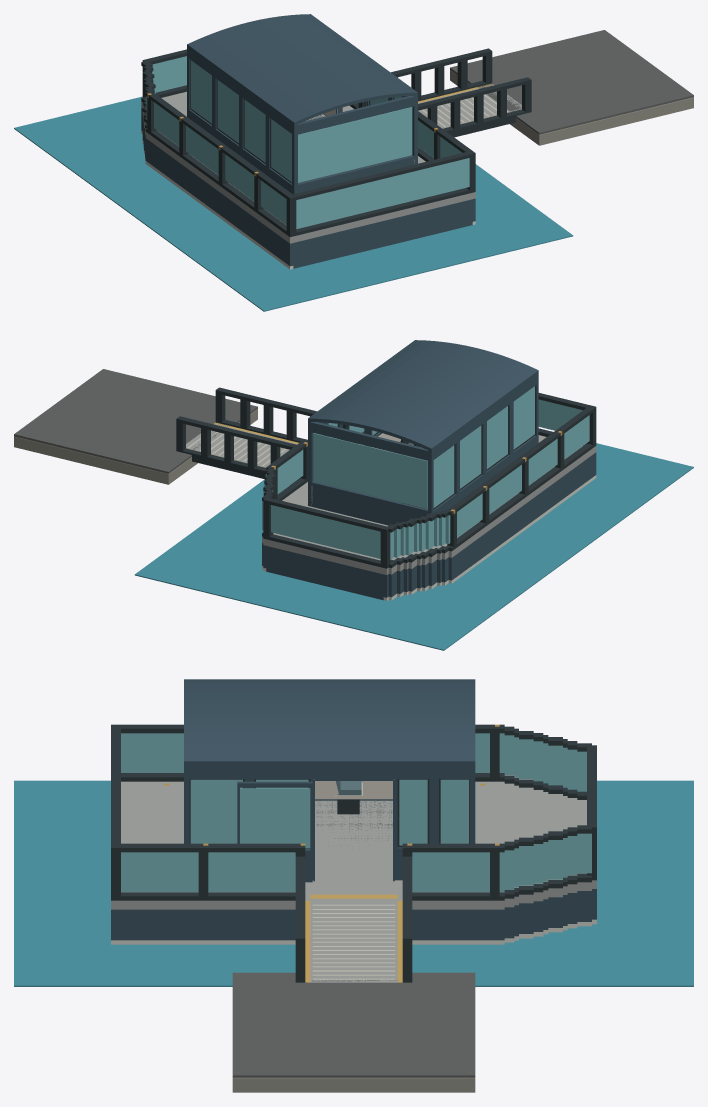
The model's file is visual-far.glb.
The picture shows the model from 3 angles, top to bottom: view 1: azimuth 30°, elevation 25°; view 2: azimuth 150°, elevation 25°; view 3: azimuth 270°, elevation 25°; orthographic projection. The views are drawn at different scales.
Parts seen in each view (by area): view 1: 独立乘舱壳、真实窗封和常开侧舱口, 平水线视觉与龙骨检修托, 渡船甲板舷栏和登离缺口组件, 石铺面与混凝土承板, 渡船船艏/船底体素组件, 码头至渡船真实登离接板; view 2: 独立乘舱壳、真实窗封和常开侧舱口, 平水线视觉与龙骨检修托, 渡船甲板舷栏和登离缺口组件, 石铺面与混凝土承板, 渡船船艏/船底体素组件, 码头至渡船真实登离接板; view 3: 平水线视觉与龙骨检修托, 独立乘舱壳、真实窗封和常开侧舱口, 渡船船艏/船底体素组件, 渡船甲板舷栏和登离缺口组件, 石铺面与混凝土承板, 码头至渡船真实登离接板, 客座软垫、金属承脚与独立织带.
Boxes of the visible parts, box(x1,y1,x2,y2) form: 独立乘舱壳、真实窗封和常开侧舱口: box(187, 14, 417, 193); 平水线视觉与龙骨检修托: box(14, 96, 573, 311); 渡船甲板舷栏和登离缺口组件: box(141, 49, 475, 237); 石铺面与混凝土承板: box(450, 30, 693, 145); 渡船船艏/船底体素组件: box(141, 91, 475, 269); 码头至渡船真实登离接板: box(391, 48, 531, 137); 独立乘舱壳、真实窗封和常开侧舱口: box(308, 340, 538, 525); 平水线视觉与龙骨检修托: box(134, 431, 693, 650); 渡船甲板舷栏和登离缺口组件: box(262, 393, 596, 568); 石铺面与混凝土承板: box(14, 369, 257, 484); 渡船船艏/船底体素组件: box(262, 435, 596, 600); 码头至渡船真实登离接板: box(176, 387, 316, 484); 平水线视觉与龙骨检修托: box(14, 780, 693, 986); 独立乘舱壳、真实窗封和常开侧舱口: box(184, 679, 475, 882); 渡船船艏/船底体素组件: box(111, 781, 596, 944); 渡船甲板舷栏和登离缺口组件: box(111, 724, 596, 900); 石铺面与混凝土承板: box(232, 972, 475, 1092); 码头至渡船真实登离接板: box(295, 856, 412, 982); 客座软垫、金属承脚与独立织带: box(332, 781, 362, 814).
Size of the model in its own units: 16.5 by 5.52 by 14.
Materials: 20 (20 with a texture image).
